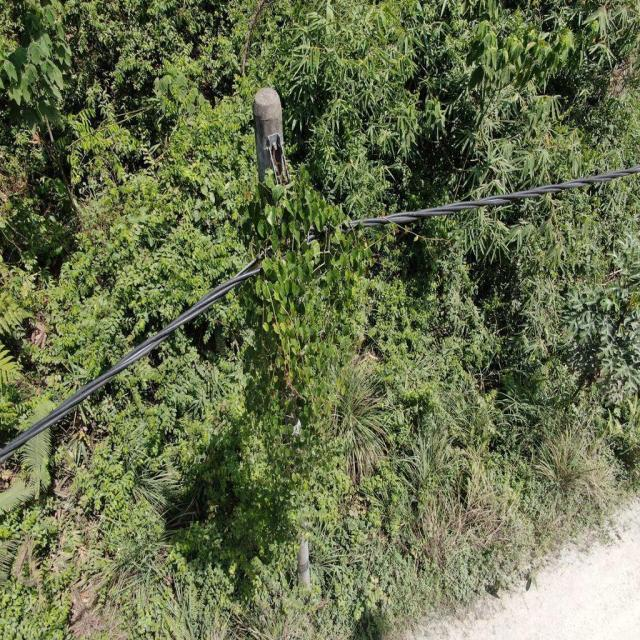critical vegetation: (248, 142, 362, 588)
